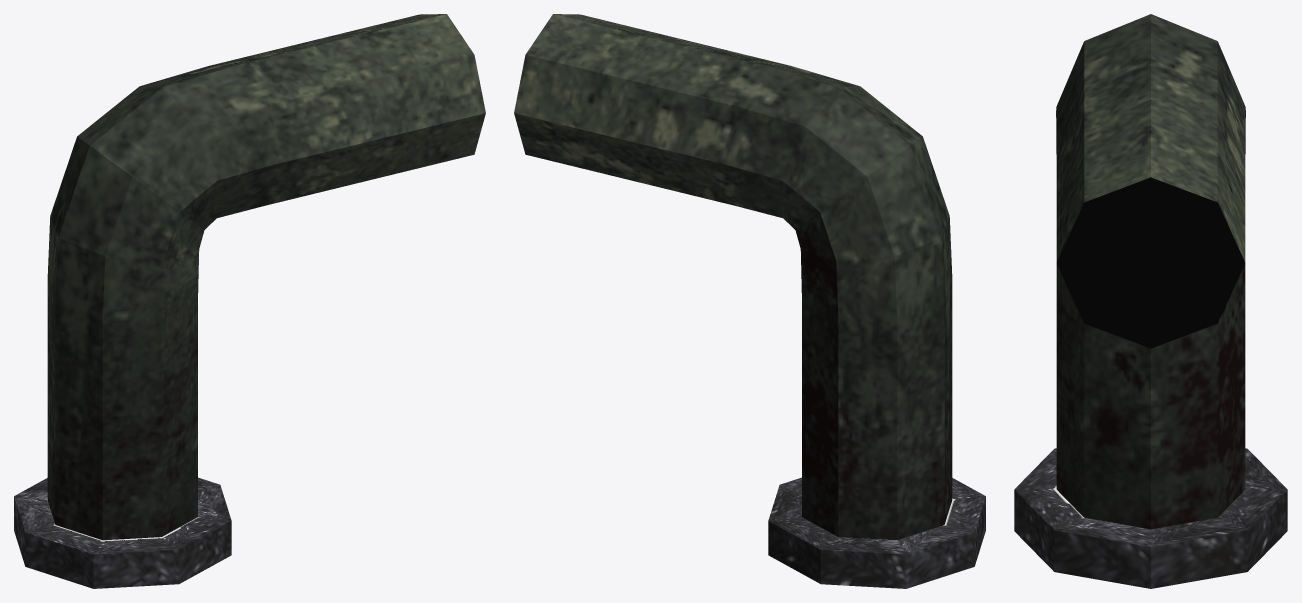
File: pipe_curved_1.glb
3 renders of one model, left to right at view 1: azimuth 30°, elevation 25°; view 2: azimuth 150°, elevation 25°; view 3: azimuth 270°, elevation 25°, orthographic. The views are drawn at different scales.
Visible parts, largest first — view 1: Pipe Curved_1; view 2: Pipe Curved_1; view 3: Pipe Curved_1.
Part boxes in pixels (x1,y1,x2,y2): Pipe Curved_1: [14, 14, 485, 588]; Pipe Curved_1: [514, 14, 985, 588]; Pipe Curved_1: [1014, 14, 1287, 588].
Size of the model in its own units: 13.16 by 13.41 by 6.09.
Materials: 1 (1 with a texture image).
